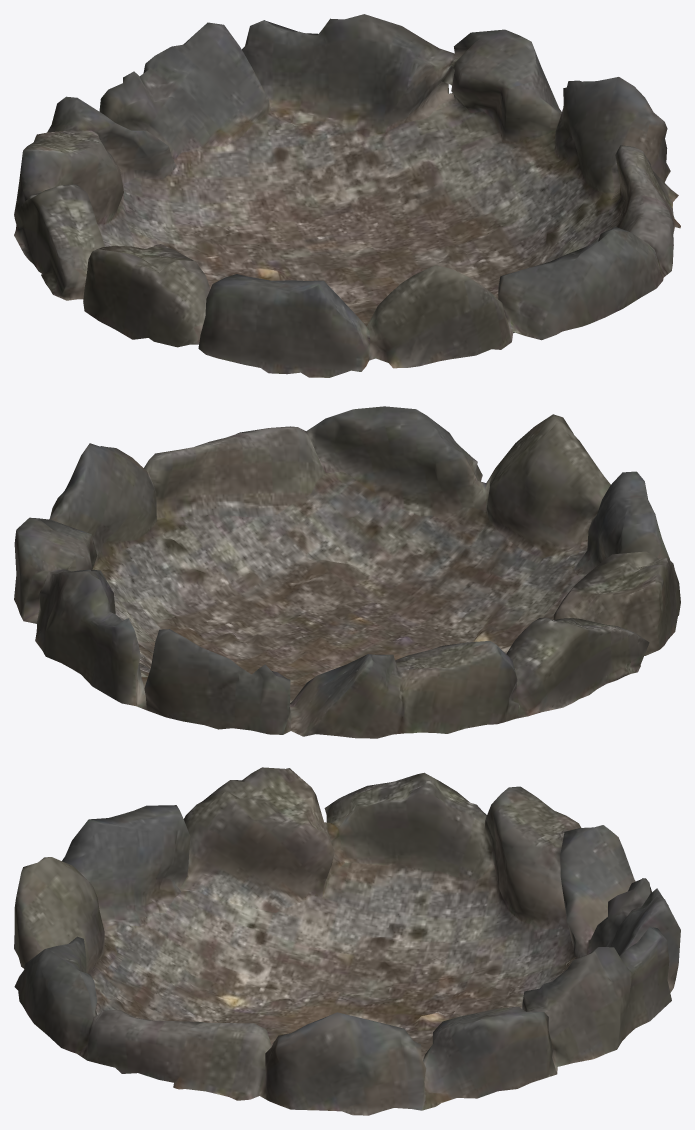
The model's file is stone_fire_pit.glb.
3 renders of one model, top to bottom at view 1: azimuth 30°, elevation 25°; view 2: azimuth 150°, elevation 25°; view 3: azimuth 270°, elevation 25°, orthographic.
Parts seen in each view (by area): view 1: stone_fire_pit; view 2: stone_fire_pit; view 3: stone_fire_pit.
Part boxes in pixels (x1=…): stone_fire_pit: x1=14, y1=14, x2=680, y2=377; stone_fire_pit: x1=14, y1=406, x2=680, y2=738; stone_fire_pit: x1=14, y1=767, x2=680, y2=1115.
Size of the model in its own units: 1.45 by 0.3883 by 1.43.
1 material, 1 textured.
